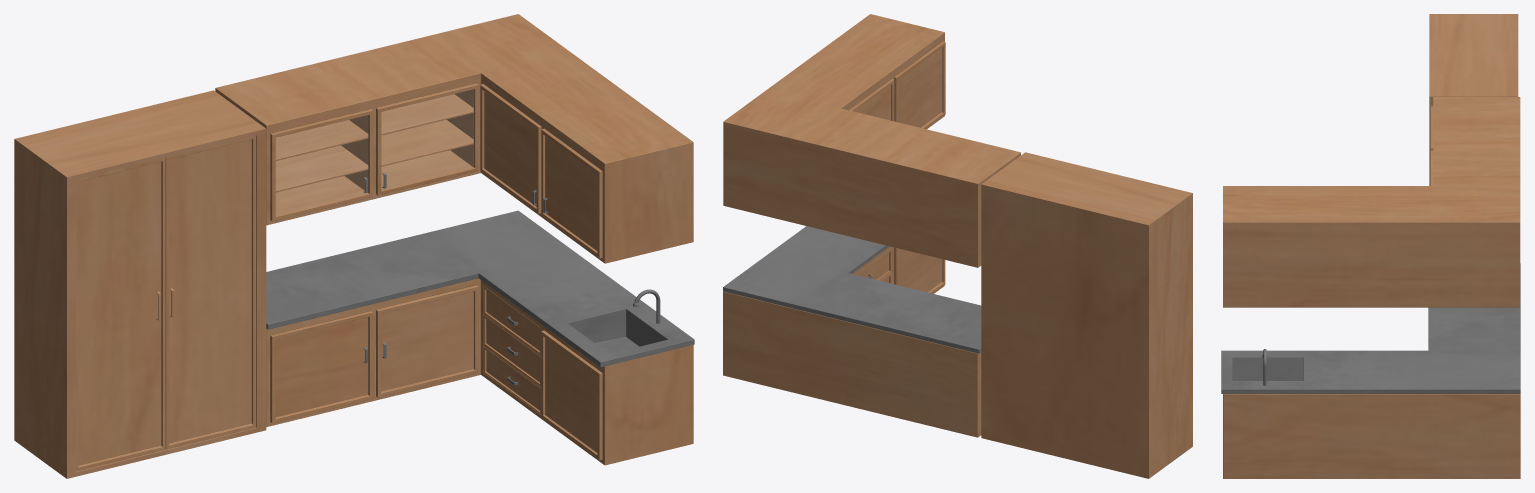
The model's file is kitchen_cabinet.glb.
3 views of the same model, side by side, from view 1: azimuth 30°, elevation 25°; view 2: azimuth 150°, elevation 25°; view 3: azimuth 270°, elevation 25° (orthographic). The views are drawn at different scales.
Parts seen in each view (by area): view 1: Cabinet.003, Door.008, Cabinet, TopCabinet.001, Cabinet.2, Door.1, Door.2, Door.3, Door.007, Door.006, Door.005, Door.004 (+3 smaller); view 2: Cabinet, Cabinet.003, Cabinet.2, TopCabinet.001, Door.007, Door.3, Door.006, Drawer.004; view 3: Cabinet.003, Cabinet.2, TopCabinet.001, Cabinet.
Boxes of the visible parts, <box> form: Cabinet.003: <box>215,14,693,263</box>; Door.008: <box>76,135,256,471</box>; Cabinet: <box>14,90,266,478</box>; TopCabinet.001: <box>266,210,694,371</box>; Cabinet.2: <box>266,278,693,465</box>; Door.1: <box>270,311,372,423</box>; Door.2: <box>376,285,478,397</box>; Door.3: <box>541,330,602,460</box>; Door.007: <box>541,128,602,258</box>; Door.006: <box>480,84,541,213</box>; Door.005: <box>376,83,478,195</box>; Door.004: <box>270,109,372,221</box>; Cabinet: <box>981,152,1192,478</box>; Cabinet.003: <box>723,14,1020,267</box>; Cabinet.2: <box>723,246,981,437</box>; TopCabinet.001: <box>723,226,981,353</box>; Door.007: <box>894,41,945,128</box>; Door.3: <box>894,247,945,293</box>; Door.006: <box>849,79,894,121</box>; Drawer.004: <box>856,249,891,280</box>; Cabinet.003: <box>1223,97,1520,307</box>; Cabinet.2: <box>1223,394,1520,478</box>; TopCabinet.001: <box>1221,263,1520,393</box>; Cabinet: <box>1429,14,1518,185</box>.
Size of the model in its own units: 11.13 by 6.37 by 6.72.
Materials: 3 (2 with a texture image).
